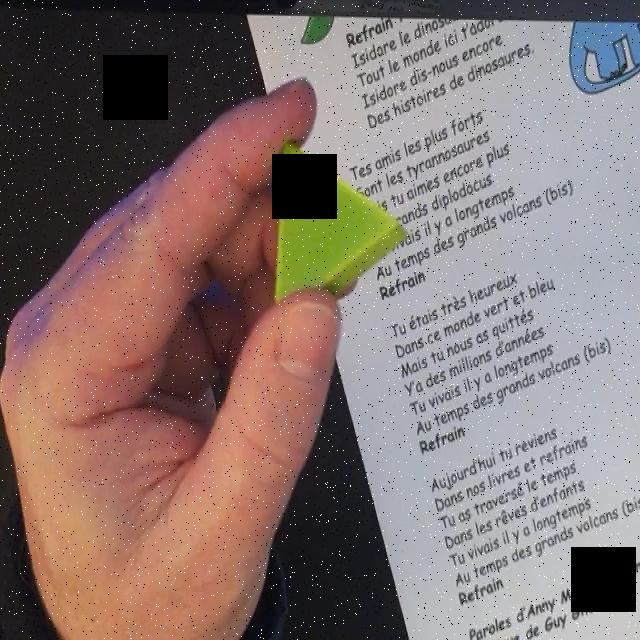triangle: (274, 138, 406, 310)
